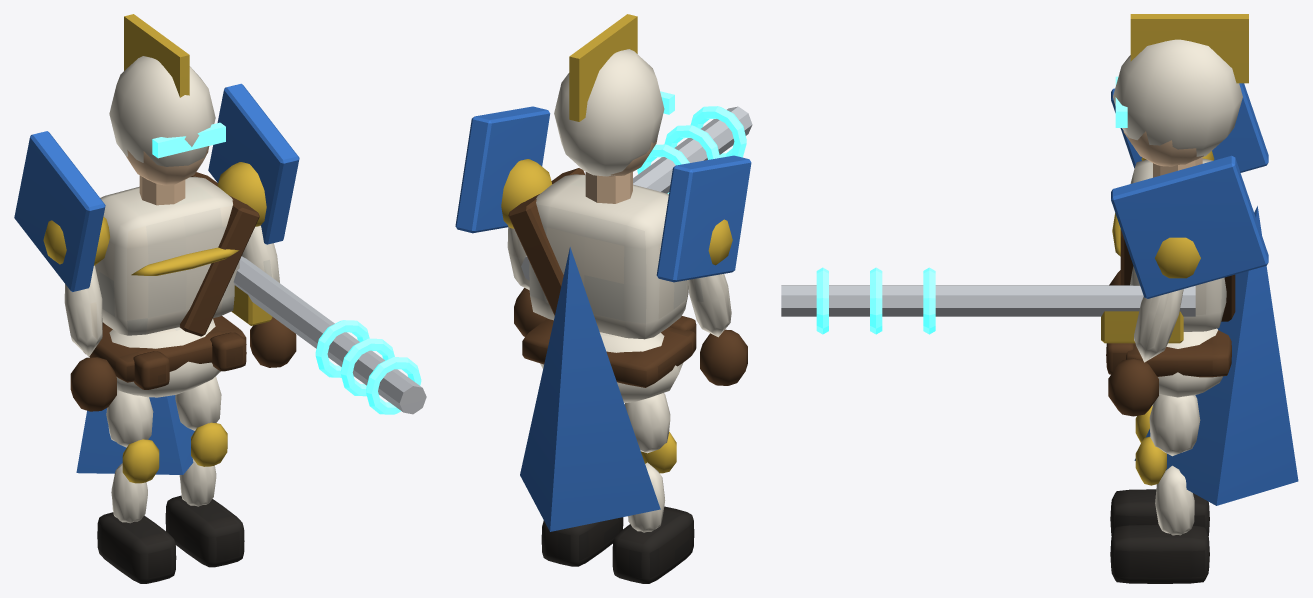
The model's file is archer.glb.
3 renders of one model, left to right at view 1: azimuth 30°, elevation 25°; view 2: azimuth 150°, elevation 25°; view 3: azimuth 270°, elevation 25°, orthographic. The views are drawn at different scales.
Visible parts, largest first — view 1: archer, leg_l, leg_r, arm_l, arm_r; view 2: archer, leg_l, arm_l, arm_r, leg_r; view 3: archer, leg_r, arm_r, leg_l.
Part boxes in pixels (x1=…): archer: x1=14, y1=14, x2=426, y2=474; leg_l: x1=97, y1=390, x2=176, y2=583; leg_r: x1=165, y1=376, x2=244, y2=567; arm_l: x1=43, y1=216, x2=116, y2=411; arm_r: x1=217, y1=162, x2=296, y2=367; archer: x1=455, y1=14, x2=752, y2=531; leg_l: x1=612, y1=393, x2=694, y2=583; arm_l: x1=688, y1=219, x2=747, y2=385; arm_r: x1=501, y1=159, x2=552, y2=336; leg_r: x1=541, y1=517, x2=623, y2=566; archer: x1=781, y1=14, x2=1298, y2=505; leg_r: x1=1110, y1=394, x2=1209, y2=583; arm_r: x1=1108, y1=237, x2=1200, y2=416; leg_l: x1=1110, y1=404, x2=1209, y2=535.
Size of the model in its own units: 0.4692 by 1.01 by 0.8738.
